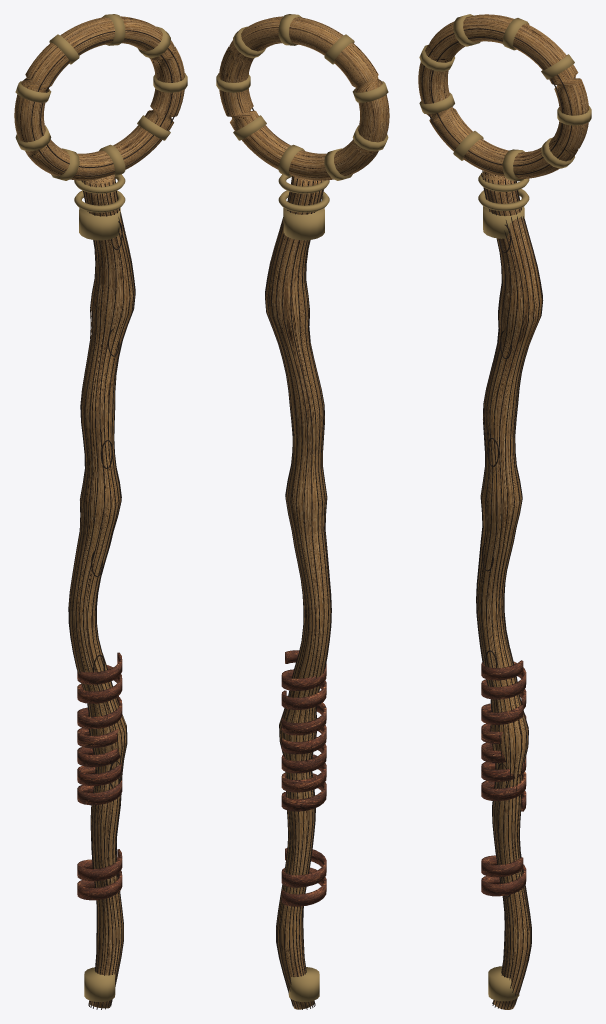
The model's file is WM-04-rhythm-staff.glb.
3 views of the same model, side by side, from view 1: azimuth 30°, elevation 25°; view 2: azimuth 150°, elevation 25°; view 3: azimuth 330°, elevation 25° (orthographic).
Visible parts, largest first — view 1: WM-04_Solid_wood_shaft.001, WM04_Open_wood_ring.001, WM-04_Long_carved_grain.001, WM-04_Helical_grip.003, WM-04_Helical_grip.005, WM-04_Helical_grip.004, WM-04_Metal_ferrule.003, WM04_Ring_ink_carving.001, WM-04_Metal_ferrule.002, WM04_Fixed_collar.002, WM04_Fixed_collar.003; view 2: WM-04_Solid_wood_shaft.001, WM04_Open_wood_ring.001, WM-04_Long_carved_grain.001, WM-04_Helical_grip.003, WM-04_Helical_grip.005, WM-04_Helical_grip.004, WM-04_Metal_ferrule.003, WM-04_Metal_ferrule.002, WM04_Fixed_collar.002, WM04_Fixed_collar.003; view 3: WM-04_Solid_wood_shaft.001, WM-04_Long_carved_grain.001, WM04_Open_wood_ring.001, WM-04_Helical_grip.003, WM-04_Helical_grip.005, WM-04_Helical_grip.004, WM04_Ring_ink_carving.001, WM-04_Metal_ferrule.003, WM-04_Metal_ferrule.002, WM04_Fixed_collar.002, WM04_Fixed_collar.003.
Boxes of the visible parts, x1=… form: WM-04_Solid_wood_shaft.001: x1=69, y1=174, x2=134, y2=1008; WM04_Open_wood_ring.001: x1=14, y1=16, x2=184, y2=180; WM-04_Long_carved_grain.001: x1=68, y1=177, x2=135, y2=1009; WM-04_Helical_grip.003: x1=77, y1=697, x2=122, y2=805; WM-04_Helical_grip.005: x1=77, y1=849, x2=122, y2=900; WM-04_Helical_grip.004: x1=77, y1=652, x2=122, y2=703; WM-04_Metal_ferrule.003: x1=79, y1=208, x2=120, y2=240; WM04_Ring_ink_carving.001: x1=31, y1=30, x2=181, y2=176; WM-04_Metal_ferrule.002: x1=84, y1=967, x2=115, y2=1001; WM04_Fixed_collar.002: x1=74, y1=190, x2=125, y2=212; WM04_Fixed_collar.003: x1=74, y1=174, x2=125, y2=193; WM-04_Solid_wood_shaft.001: x1=265, y1=176, x2=330, y2=1009; WM04_Open_wood_ring.001: x1=219, y1=16, x2=389, y2=180; WM-04_Long_carved_grain.001: x1=265, y1=176, x2=331, y2=1009; WM-04_Helical_grip.003: x1=281, y1=695, x2=326, y2=811; WM-04_Helical_grip.005: x1=281, y1=848, x2=326, y2=906; WM-04_Helical_grip.004: x1=281, y1=650, x2=326, y2=709; WM-04_Metal_ferrule.003: x1=283, y1=208, x2=324, y2=240; WM-04_Metal_ferrule.002: x1=288, y1=967, x2=319, y2=1001; WM04_Fixed_collar.002: x1=278, y1=190, x2=329, y2=212; WM04_Fixed_collar.003: x1=278, y1=174, x2=329, y2=193; WM-04_Solid_wood_shaft.001: x1=477, y1=171, x2=542, y2=1009; WM-04_Long_carved_grain.001: x1=476, y1=170, x2=543, y2=1009; WM04_Open_wood_ring.001: x1=418, y1=14, x2=588, y2=178; WM-04_Helical_grip.003: x1=481, y1=703, x2=526, y2=811; WM-04_Helical_grip.005: x1=481, y1=855, x2=526, y2=898; WM-04_Helical_grip.004: x1=481, y1=660, x2=526, y2=709; WM04_Ring_ink_carving.001: x1=421, y1=28, x2=572, y2=174; WM-04_Metal_ferrule.003: x1=483, y1=206, x2=524, y2=238; WM-04_Metal_ferrule.002: x1=488, y1=966, x2=519, y2=1001; WM04_Fixed_collar.002: x1=478, y1=189, x2=529, y2=210; WM04_Fixed_collar.003: x1=478, y1=171, x2=529, y2=191.
Size of the model in its own units: 0.251 by 1.4 by 0.0665.
Materials: 4 (2 with a texture image).
